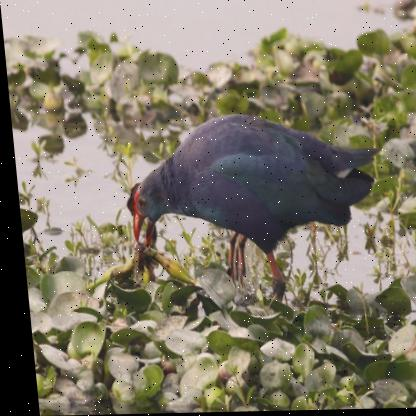Burung: (117, 112, 388, 303)
